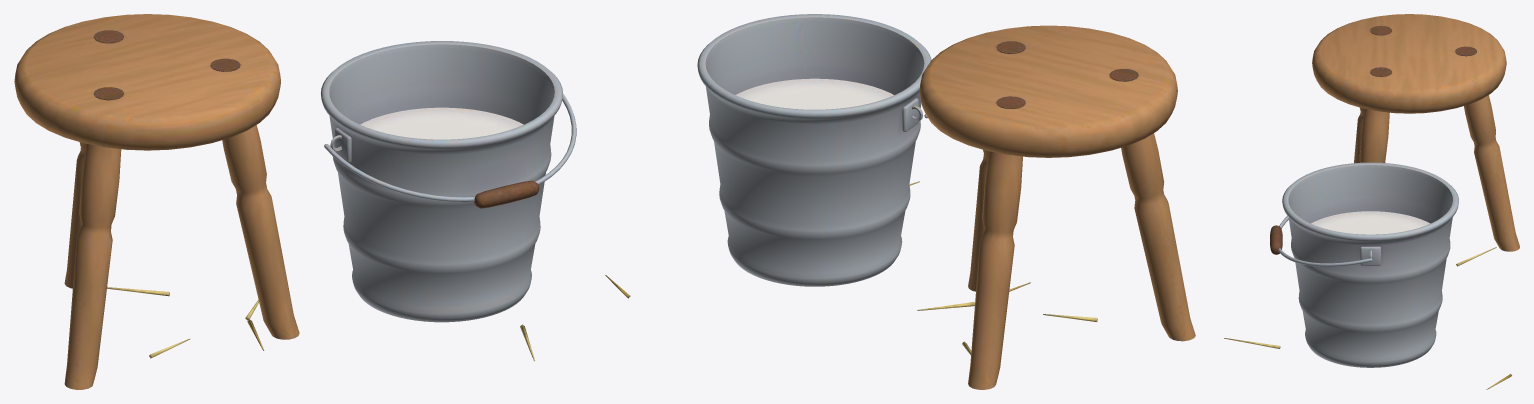
Rendered from milking-stool.glb.
The picture shows the model from 3 angles, left to right: view 1: azimuth 30°, elevation 25°; view 2: azimuth 150°, elevation 25°; view 3: azimuth 270°, elevation 25°; orthographic projection. The views are drawn at different scales.
Visible parts, largest first — view 1: milking-stool_body; view 2: milking-stool_body; view 3: milking-stool_body.
Part boxes in pixels (box(x1,y1,x2,y2)): milking-stool_body: box(14, 14, 576, 389); milking-stool_body: box(605, 14, 1195, 389); milking-stool_body: box(1224, 14, 1519, 389).
Size of the model in its own units: 0.6798 by 0.3358 by 0.4591.
1 material, 1 textured.
